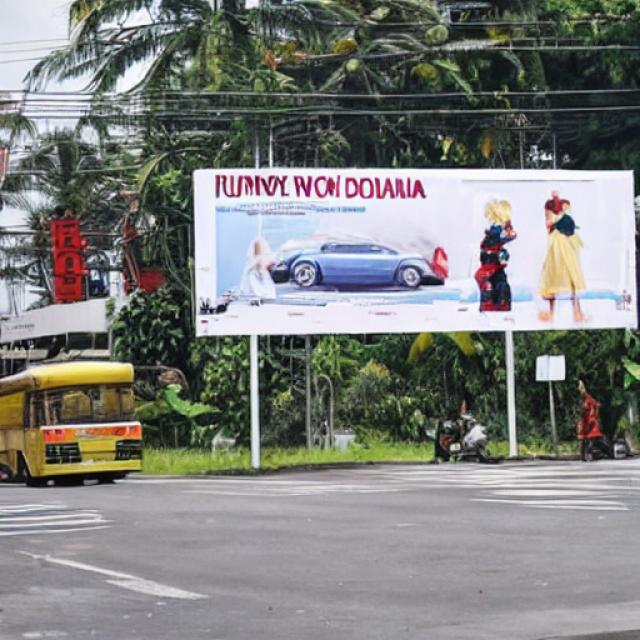Billboard: (186, 165, 640, 339)
